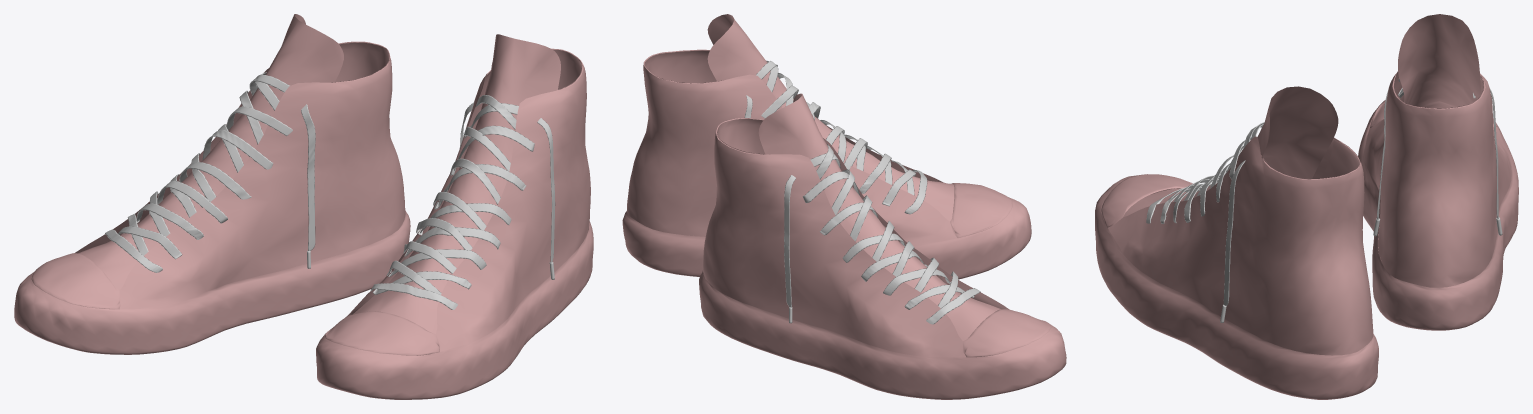
File: converseok.fbx
3 renders of one model, left to right at view 1: azimuth 30°, elevation 25°; view 2: azimuth 150°, elevation 25°; view 3: azimuth 270°, elevation 25°, orthographic. The views are drawn at different scales.
Visible parts, largest first — view 1: CONVERSE, CONVERSE_1, Sweep_1, Sweep; view 2: CONVERSE, CONVERSE_1, Sweep, Sweep_1; view 3: CONVERSE_1, CONVERSE, Sweep_1, Sweep.
Boxes of the visible parts, x1,y1,x2,y2 form: CONVERSE: [14, 14, 410, 354]; CONVERSE_1: [316, 34, 593, 399]; Sweep_1: [370, 95, 555, 309]; Sweep: [105, 72, 315, 272]; CONVERSE: [699, 93, 1066, 399]; CONVERSE_1: [622, 14, 1031, 279]; Sweep: [784, 144, 980, 324]; Sweep_1: [744, 60, 927, 214]; CONVERSE_1: [1095, 86, 1378, 399]; CONVERSE: [1358, 14, 1518, 330]; Sweep_1: [1146, 122, 1264, 322]; Sweep: [1373, 78, 1502, 236].
Bounding box in the file's own units: 44.12 × 21.33 × 29.57.
